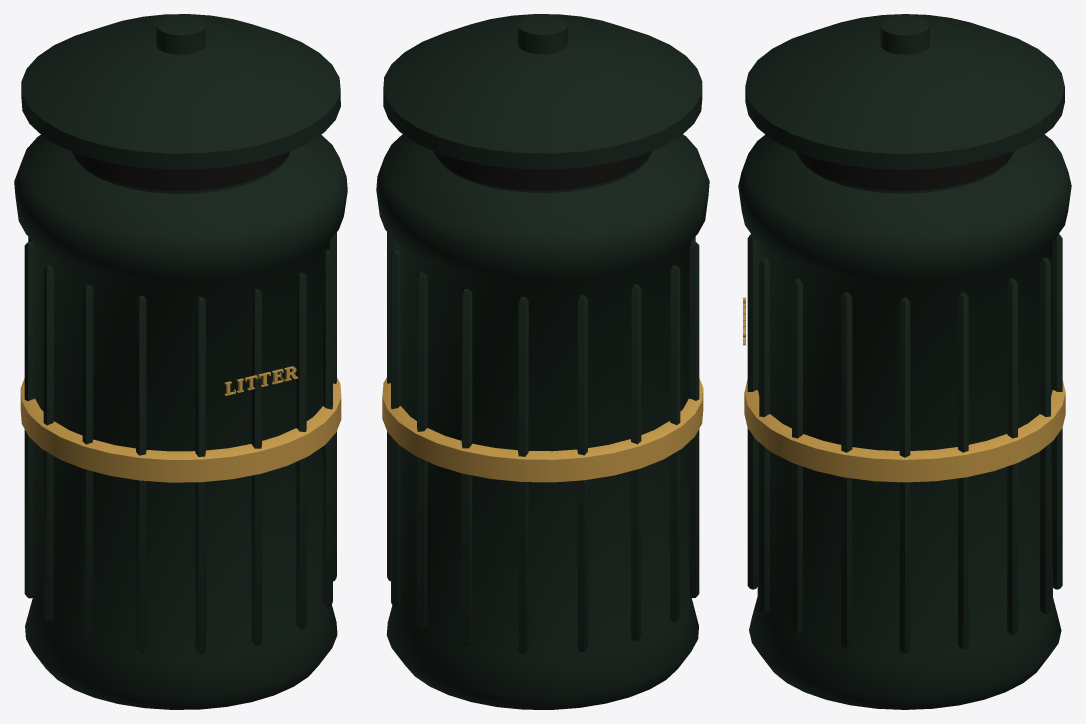
Rendered from litter_bin.glb.
3 views of the same model, side by side, from view 1: azimuth 30°, elevation 25°; view 2: azimuth 150°, elevation 25°; view 3: azimuth 270°, elevation 25° (orthographic).
Parts seen in each view (by area): view 1: Sammel Lack, Sammel Metall, Sammel Glatt; view 2: Sammel Lack, Sammel Metall, Sammel Glatt; view 3: Sammel Lack, Sammel Metall, Sammel Glatt.
Part boxes in pixels (x1=…): Sammel Lack: x1=14, y1=14, x2=347, y2=709; Sammel Metall: x1=20, y1=366, x2=341, y2=482; Sammel Glatt: x1=72, y1=151, x2=289, y2=190; Sammel Lack: x1=376, y1=14, x2=709, y2=709; Sammel Metall: x1=382, y1=377, x2=703, y2=482; Sammel Glatt: x1=434, y1=151, x2=651, y2=190; Sammel Lack: x1=738, y1=14, x2=1071, y2=709; Sammel Metall: x1=743, y1=297, x2=1065, y2=482; Sammel Glatt: x1=796, y1=151, x2=1014, y2=190.
Size of what is drawn, in the model's own units: 0.4696 by 0.9753 by 0.4693.
